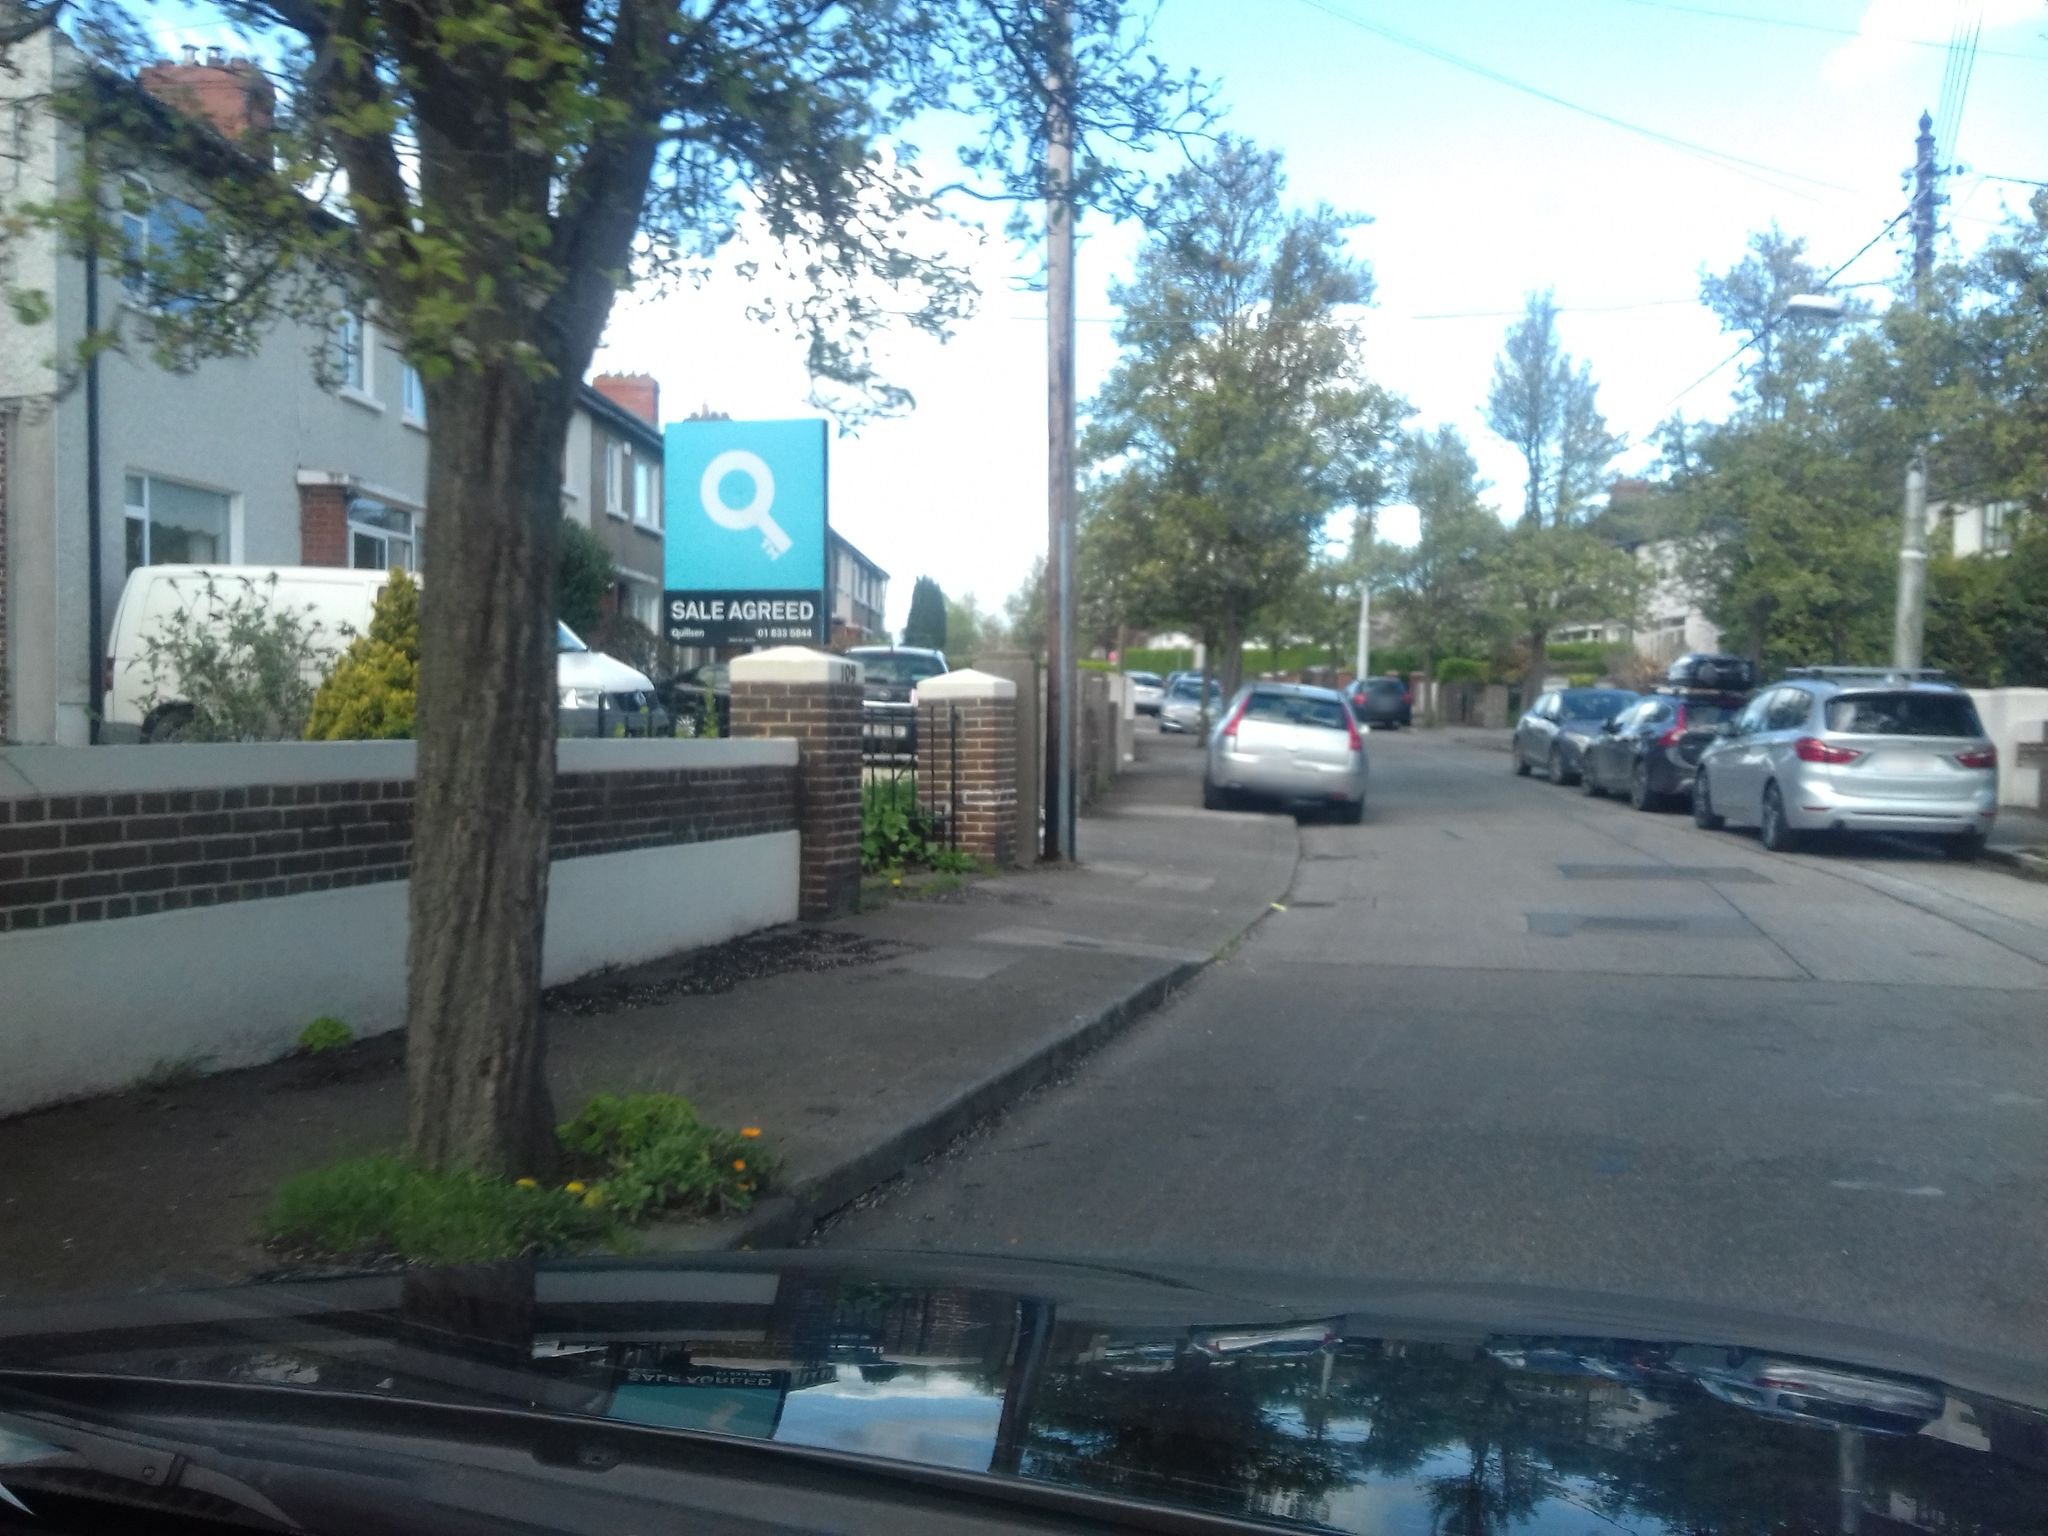property sign: (643, 402, 840, 674)
